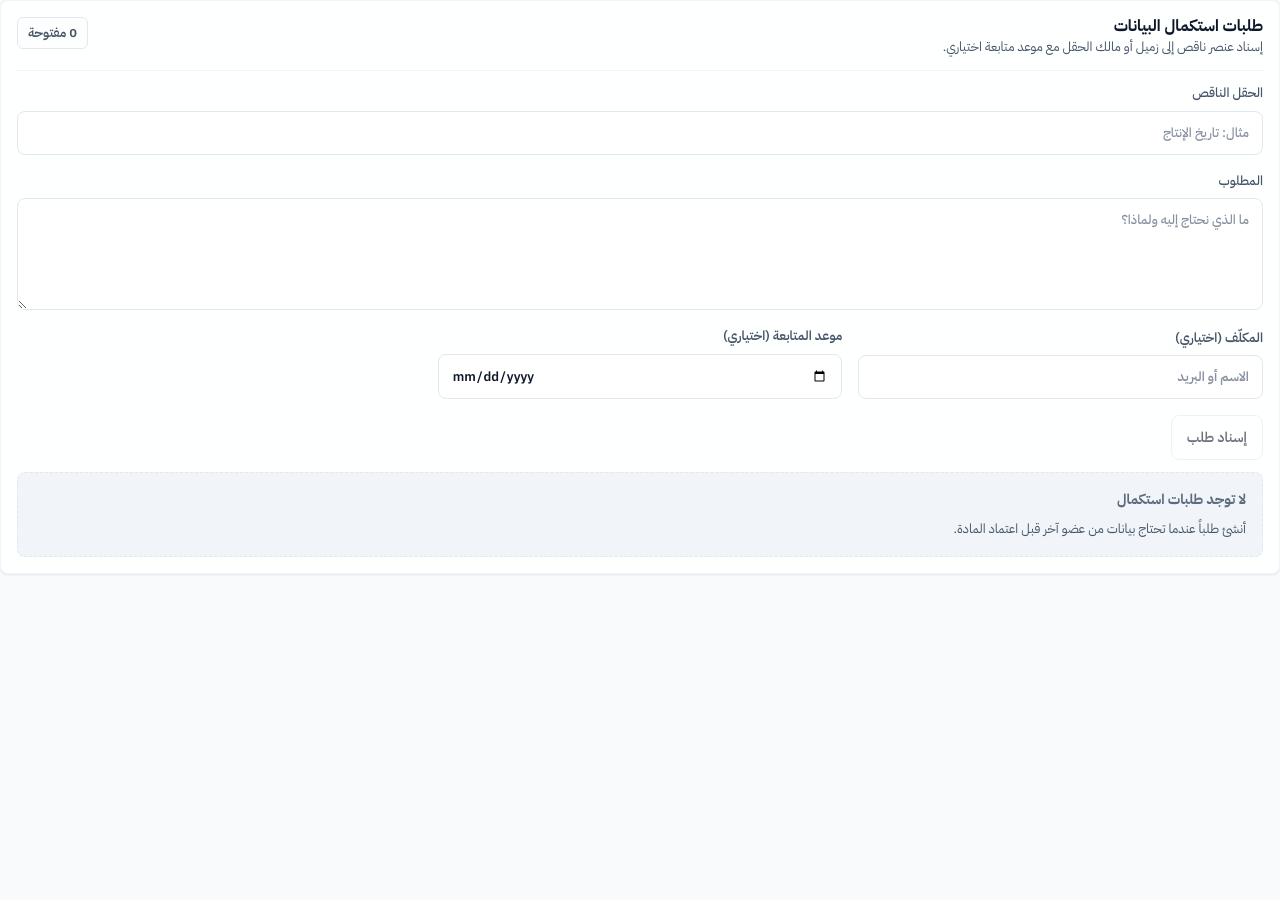
Test: RecordFieldRequestsPanel › creates an assigned field-completion request
Type "تاريخ الإنتاج" into the field labelled "الحقل الناقص" at [640, 133], box [17,111,1263,155]
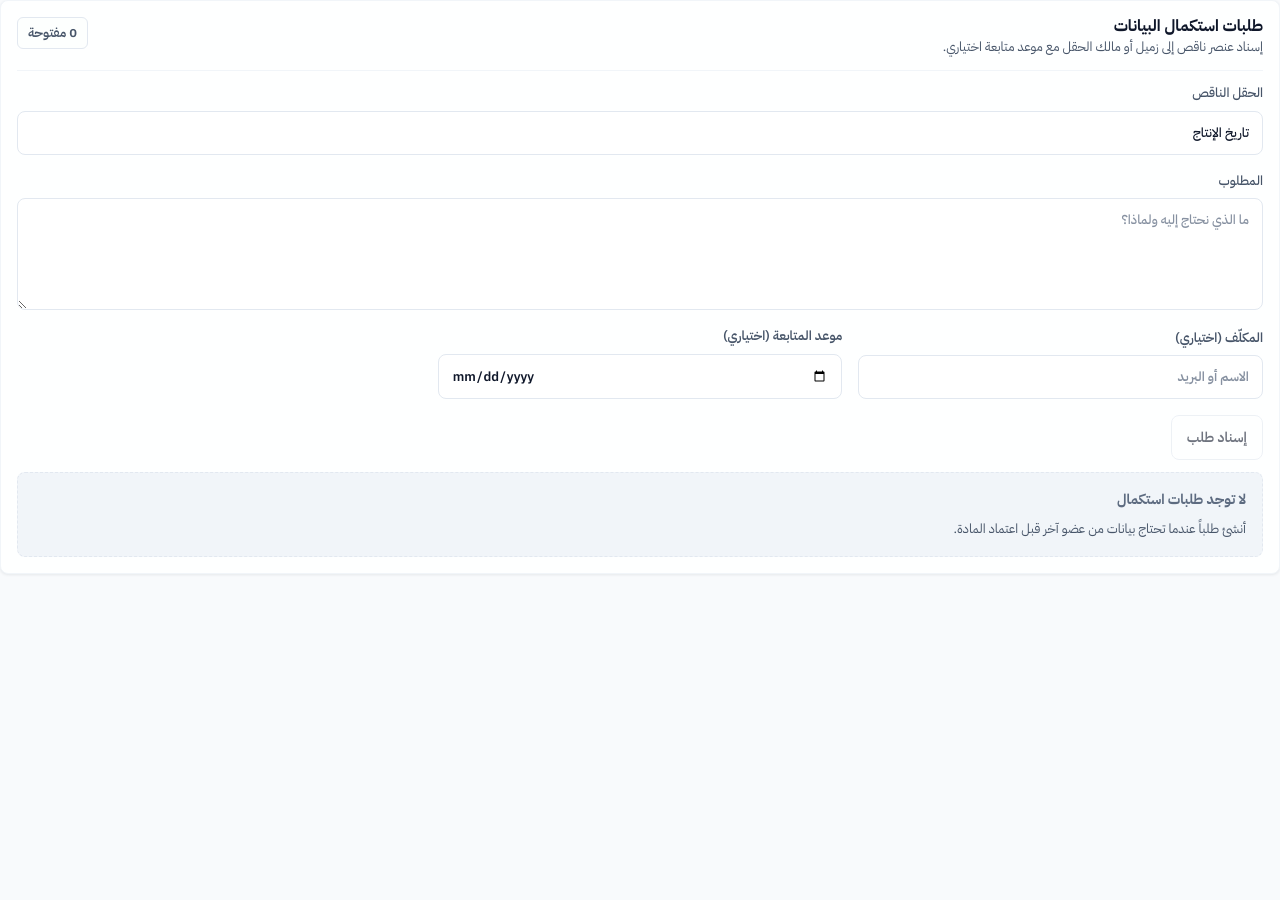
Type "تأكيد التاريخ من المصدر." into the text box labelled "المطلوب" at [640, 254], box [17,198,1263,310]
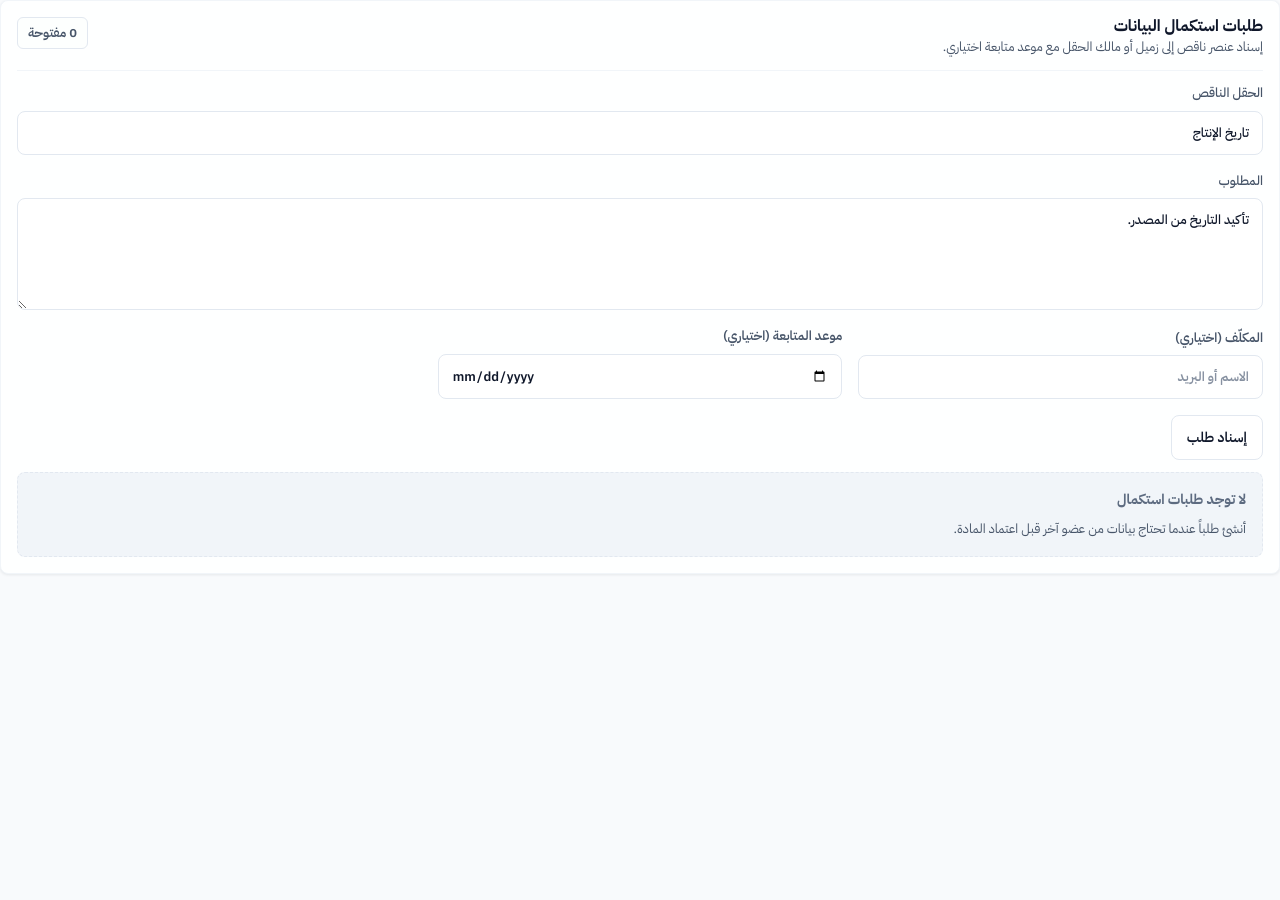
Type "فريق التوثيق" into the field labelled "المكلّف (اختياري)" at [1061, 377], box [858,355,1263,399]
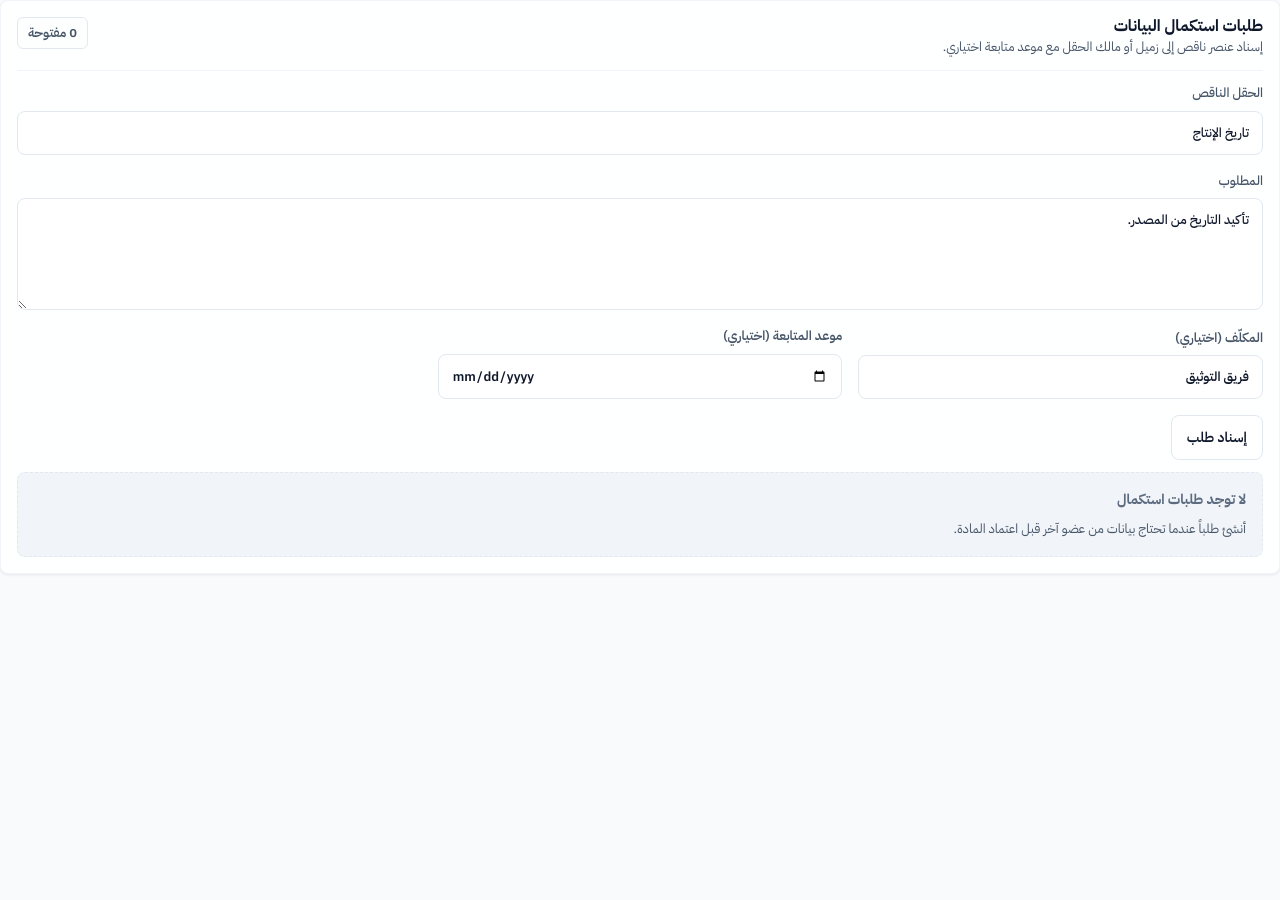
Submit the form "إسناد طلب", box [17,83,1263,460]
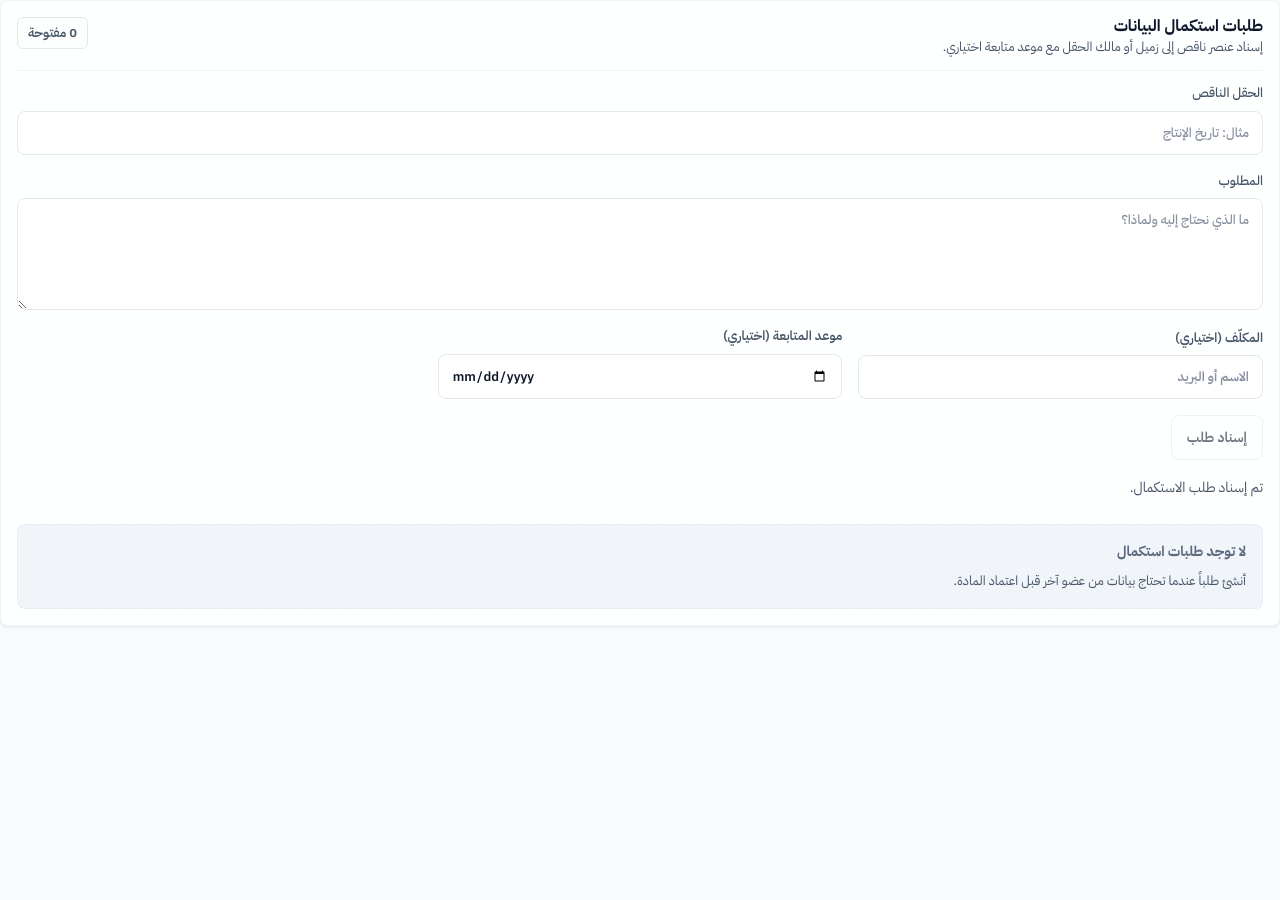
Result: the text "تم إسناد طلب الاستكمال." is shown at [1130,477,1263,498]
